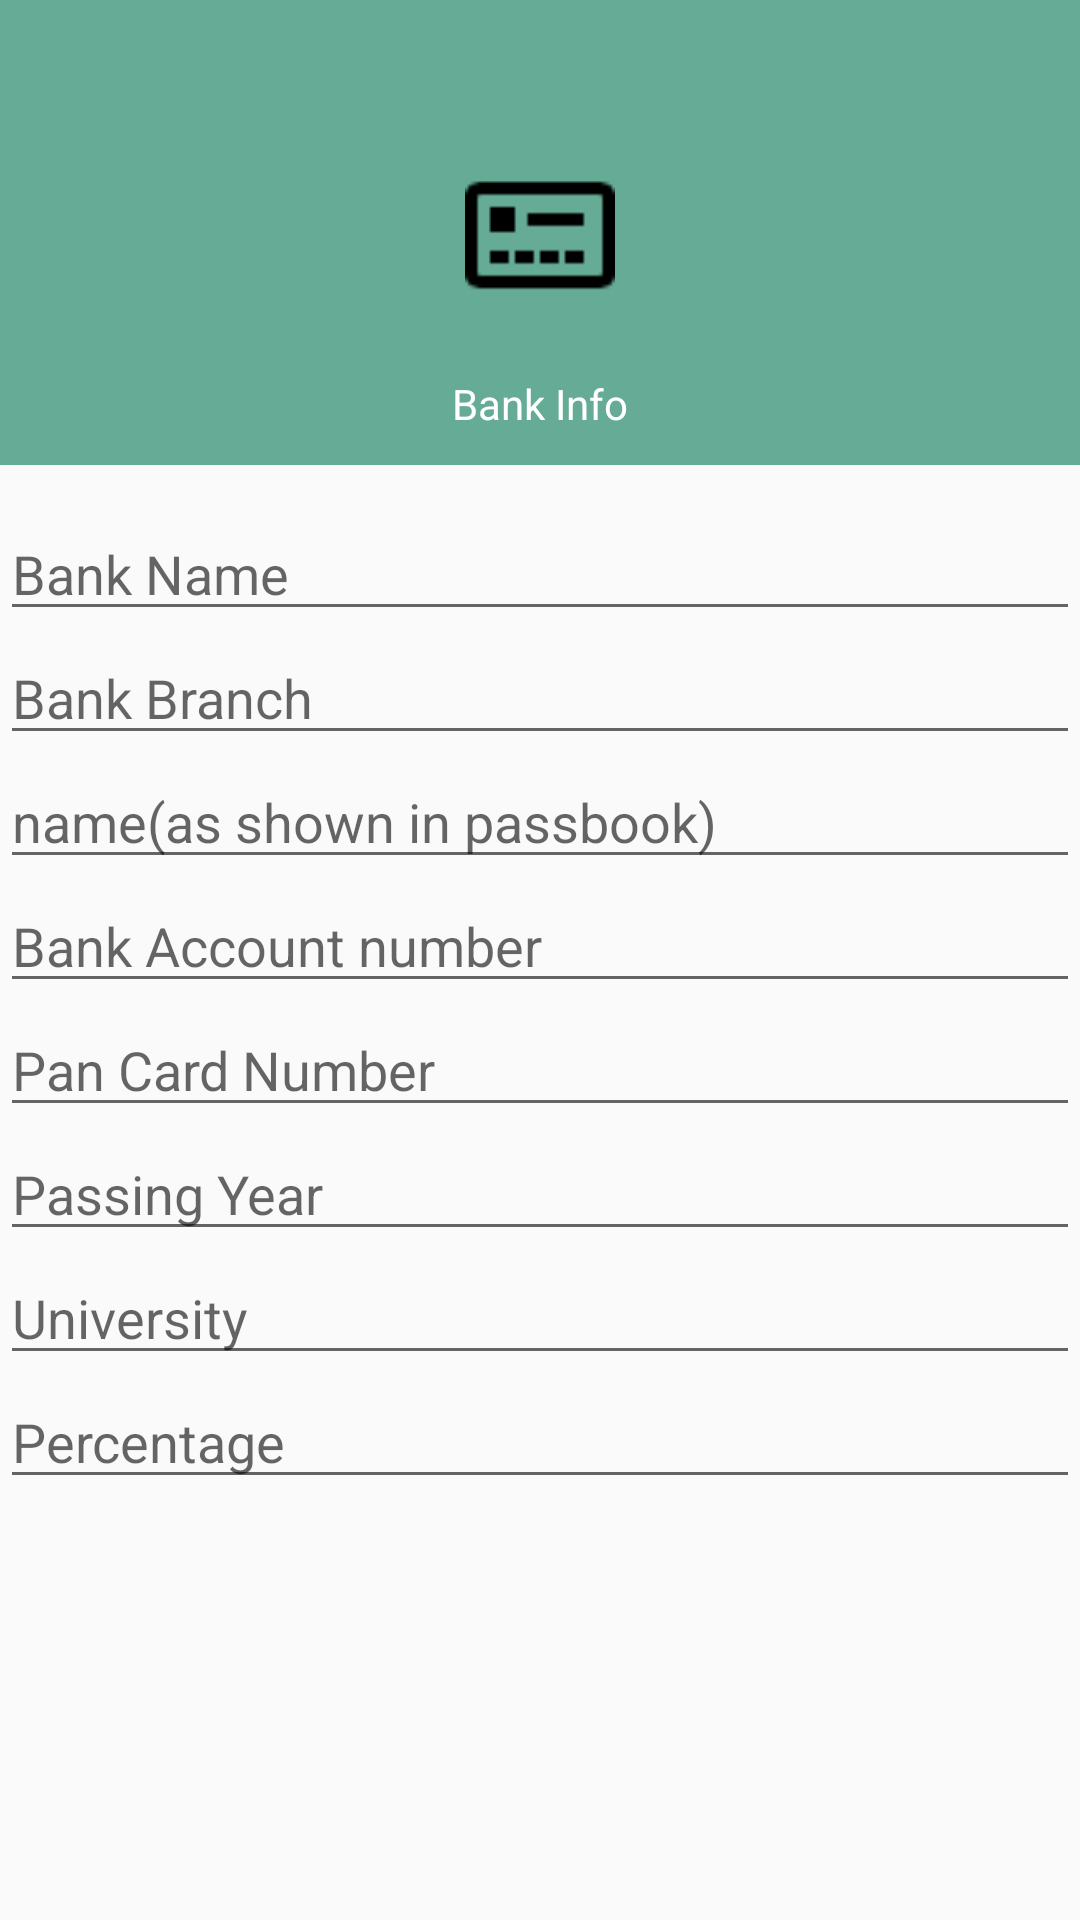

Screen size 1080*1920. Icon name, then its center in pixels as point (x, y):
bank detail: point (540, 235)
